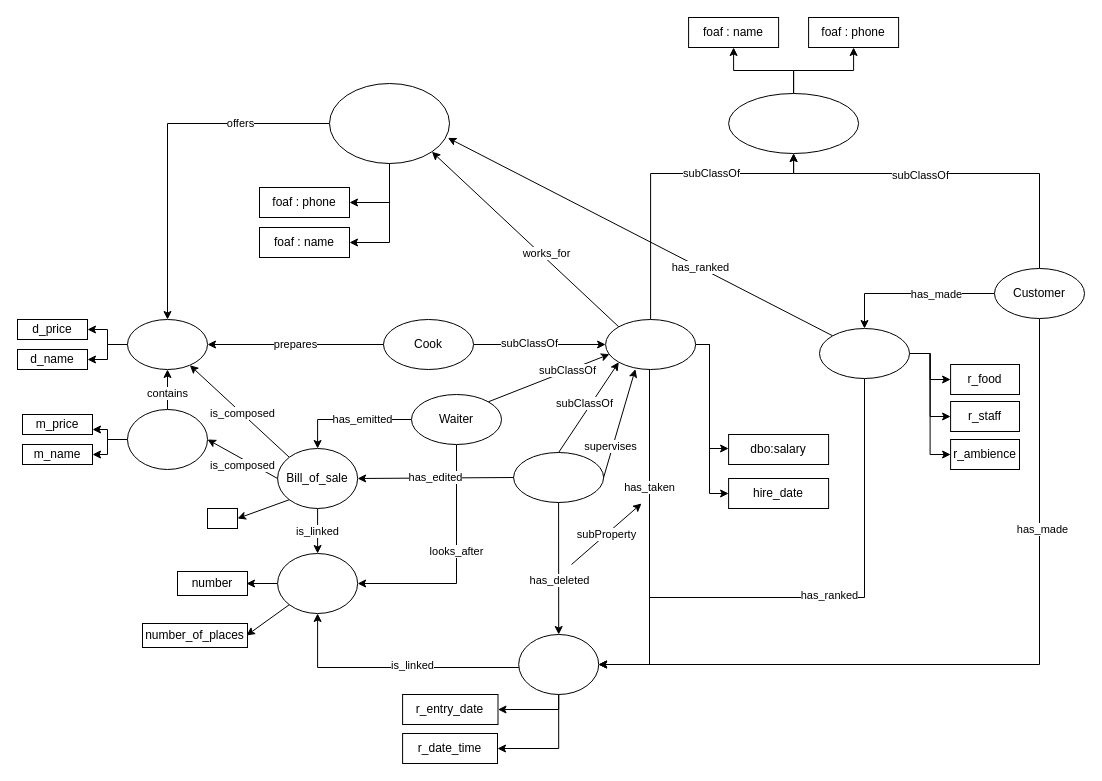
Some shapes in this 1102 by 781 pixel diagram are drawn without their labels. Here are the shapes that lost their labels. From the top down, the box of each, then its label:
(328, 82, 450, 164): Restaurant
(728, 92, 859, 154): dbo : Person
(126, 318, 208, 370): Dish
(605, 318, 696, 370): Employee
(818, 328, 910, 378): Rank
(126, 408, 208, 470): Menu
(513, 452, 604, 502): Manager
(206, 508, 238, 528): tip
(277, 552, 358, 614): Table
(518, 634, 599, 694): Reservation
